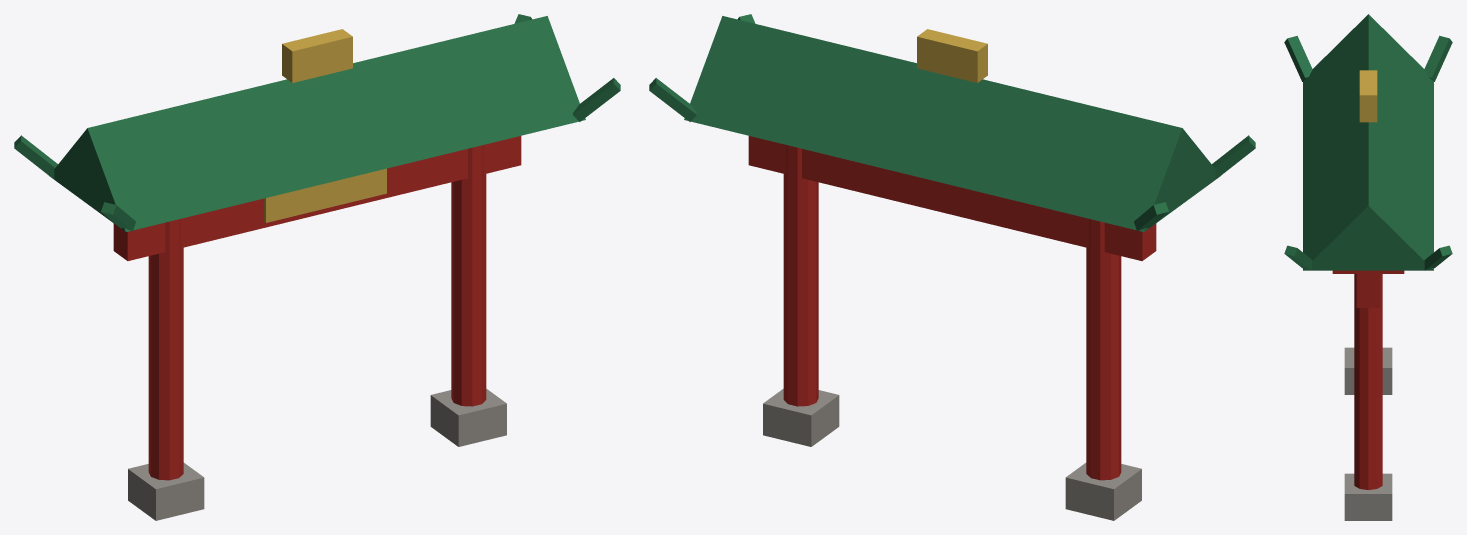
Rendered from chinatown_gate.glb.
3 views of the same model, side by side, from view 1: azimuth 30°, elevation 25°; view 2: azimuth 150°, elevation 25°; view 3: azimuth 270°, elevation 25° (orthographic). The views are drawn at different scales.
Parts seen in each view (by area): view 1: chinatown_gate; view 2: chinatown_gate; view 3: chinatown_gate.
Part boxes in pixels (left/top/right/bottom): chinatown_gate: left=14, top=14, right=620, bottom=520; chinatown_gate: left=649, top=14, right=1255, bottom=520; chinatown_gate: left=1284, top=14, right=1452, bottom=520.
Size of the model in its own units: 17.17 by 13.5 by 5.64.
1 material, 1 textured.
